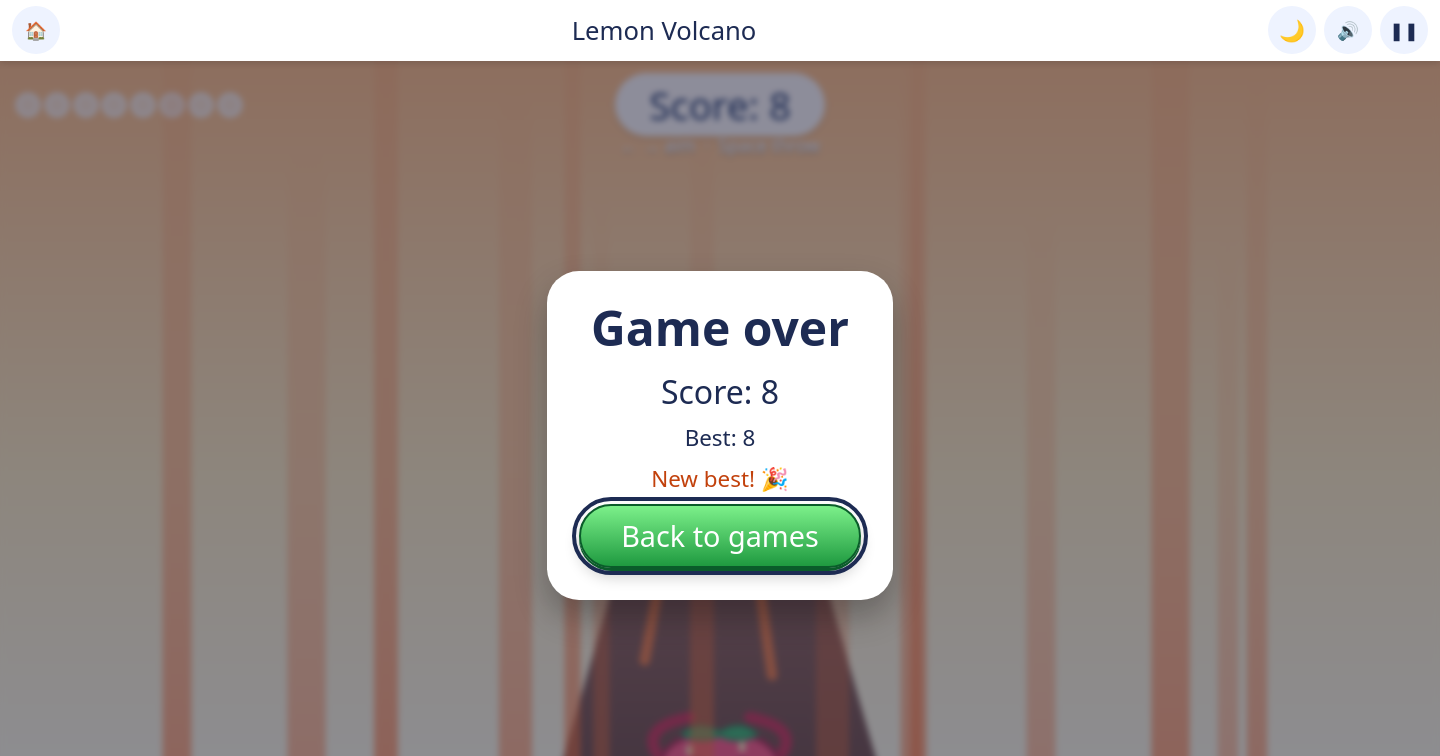
Scenario: App › plays a round of Lemon Volcano and returns to the picker address
The image size is (1440, 756).
Click the button "Back to games" at (720, 536), box [579,504,861,568]
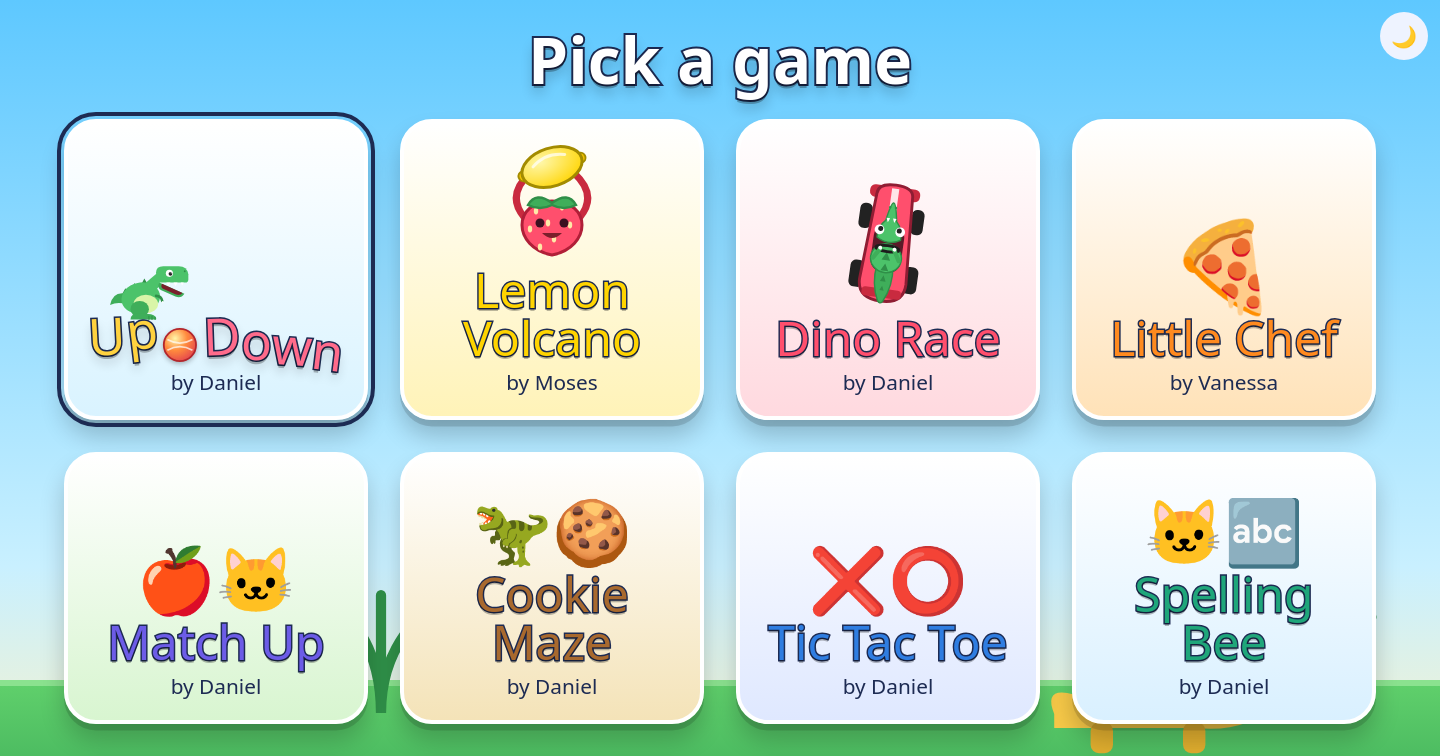
Result: the heading "Pick a game" is shown at [528,16,912,103]
